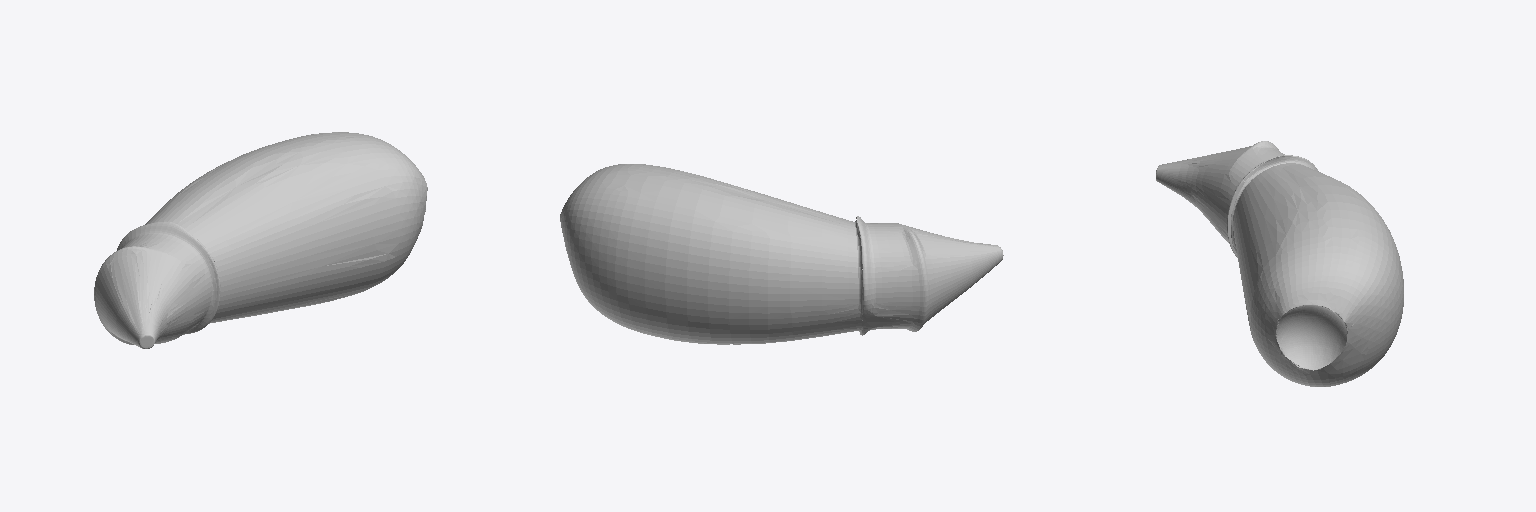
Rendered from upper_claw.obj.
3 renders of one model, left to right at view 1: azimuth 30°, elevation 25°; view 2: azimuth 150°, elevation 25°; view 3: azimuth 270°, elevation 25°, orthographic.
Parts seen in each view (by area): view 1: upper_claw_Cube.005; view 2: upper_claw_Cube.005; view 3: upper_claw_Cube.005.
Part boxes in pixels (x1,y1,x2,y2): upper_claw_Cube.005: (94, 132, 427, 348); upper_claw_Cube.005: (560, 164, 1003, 344); upper_claw_Cube.005: (1156, 141, 1403, 386).
Bounding box in the file's own units: 0.7019 × 0.2879 × 0.4286.